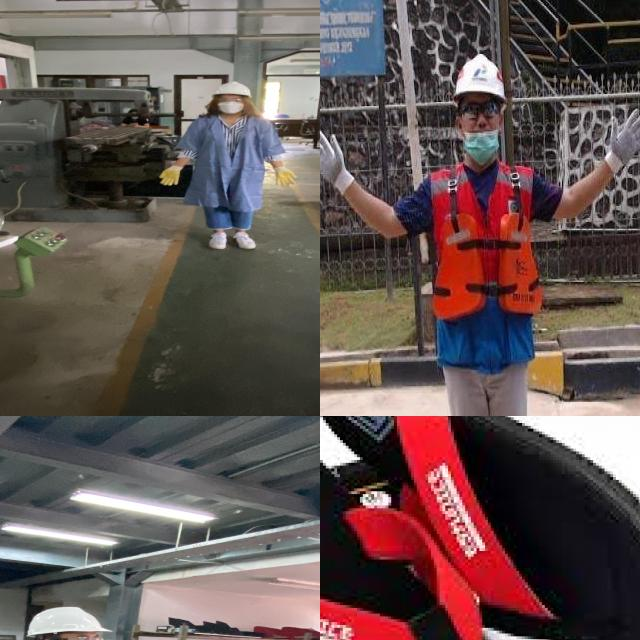Sandals: (320, 416, 640, 640)
face_mask: (214, 95, 248, 114), (53, 629, 110, 640)
glasses: (441, 92, 517, 125), (56, 634, 109, 640), (212, 95, 245, 102)
hand_glove: (603, 107, 640, 176), (320, 123, 354, 195), (269, 166, 297, 188), (156, 166, 182, 186)
head_helmet: (23, 606, 118, 637), (454, 55, 507, 100), (211, 80, 254, 97)
person: (155, 80, 295, 255)
shoes: (203, 228, 232, 252), (230, 229, 258, 252)
vest: (430, 160, 544, 364)
